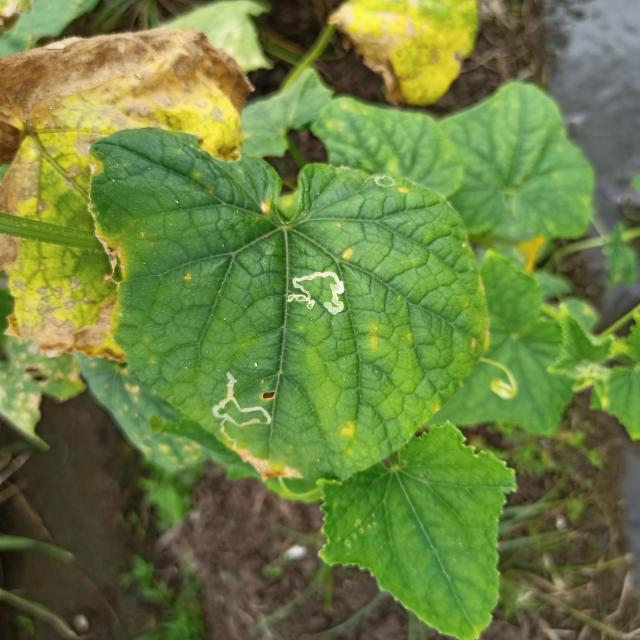disease_cucumber: (468, 326, 494, 354), (339, 418, 357, 453), (368, 326, 384, 354), (341, 247, 354, 263), (258, 200, 271, 216), (180, 270, 194, 284), (397, 185, 409, 198)
